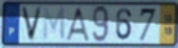6: (116, 8, 133, 42)
7: (137, 7, 158, 42)
9: (91, 4, 111, 45)
A: (64, 6, 91, 42)
M: (42, 6, 67, 42)
V: (19, 5, 44, 43)
